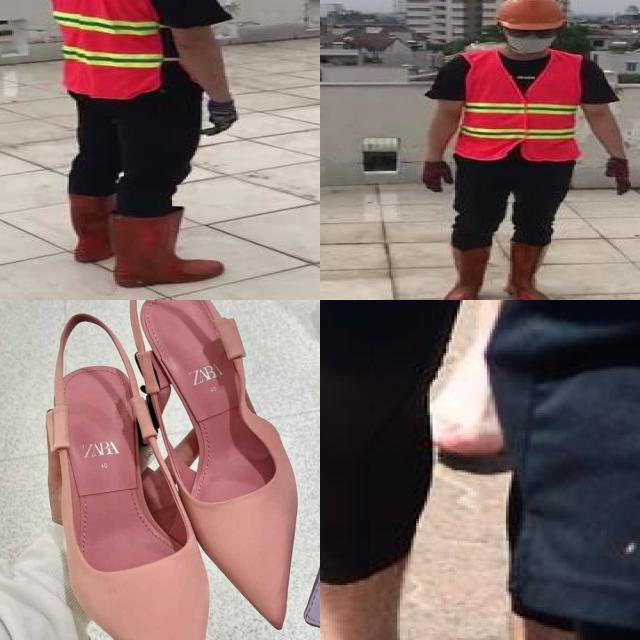Sandals: (45, 300, 320, 640)
boots: (108, 208, 225, 288), (66, 189, 116, 262), (506, 239, 552, 300), (440, 245, 490, 300)
face_mask: (504, 25, 562, 54)
glasses: (503, 25, 560, 42)
hand_glove: (202, 96, 242, 138), (419, 159, 452, 194), (604, 157, 633, 195)
head_helmet: (491, 0, 569, 31)
person: (402, 0, 640, 300), (25, 0, 243, 296)
vest: (455, 50, 578, 161), (40, 0, 164, 99)
